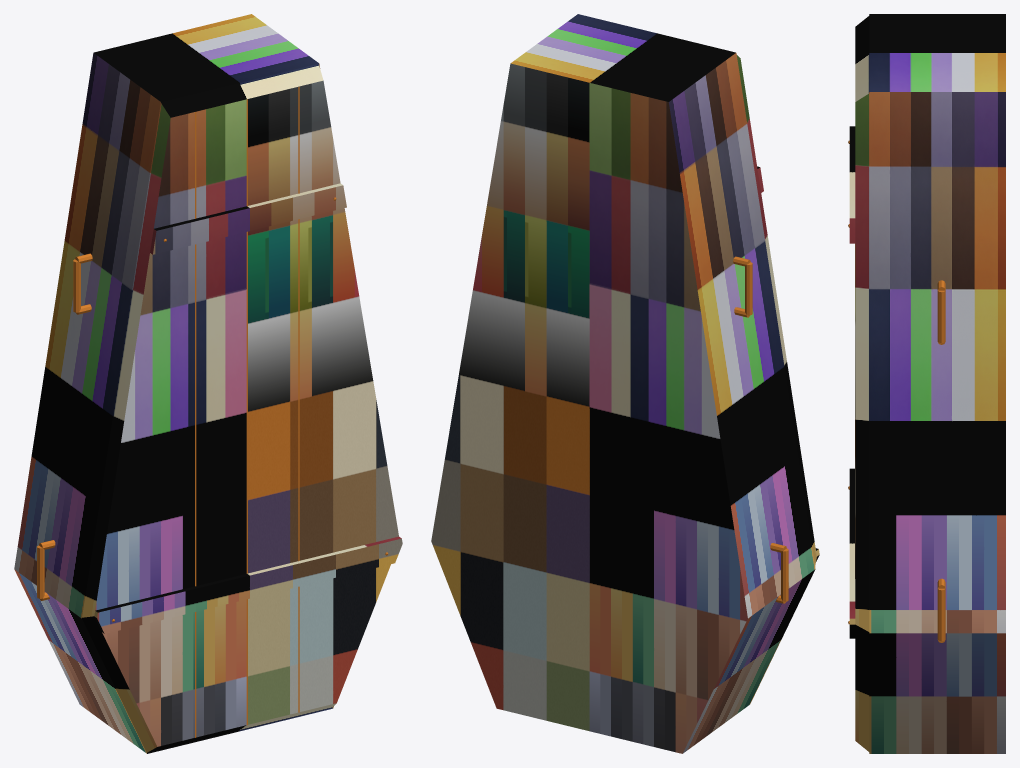
File: EVHalloween_Decor_CoffinProp_Held.fbx
The picture shows the model from 3 angles, left to right: view 1: azimuth 30°, elevation 25°; view 2: azimuth 150°, elevation 25°; view 3: azimuth 270°, elevation 25°; orthographic projection.
Parts seen in each view (by area): view 1: EVHalloween_Decor_PumpkinOrange; view 2: EVHalloween_Decor_PumpkinOrange; view 3: EVHalloween_Decor_PumpkinOrange.
Boxes of the visible parts, <box> form: EVHalloween_Decor_PumpkinOrange: <box>14,14,402,753</box>; EVHalloween_Decor_PumpkinOrange: <box>431,14,819,753</box>; EVHalloween_Decor_PumpkinOrange: <box>848,14,1005,753</box>.
Size of the model in its own units: 97 by 180 by 39.3.
